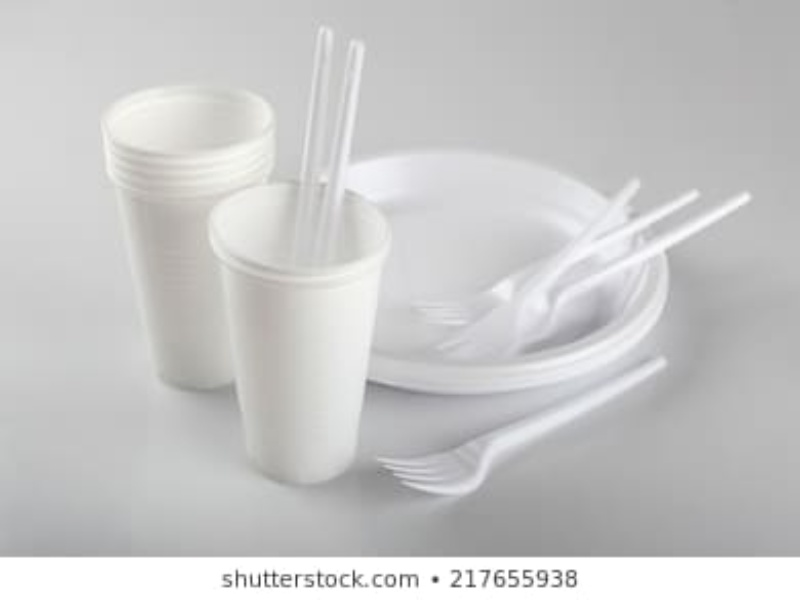plastic-cup: (208, 181, 393, 488), (101, 85, 275, 395)
plastic-plate: (322, 149, 670, 394)
plastic-silverware: (439, 191, 753, 365), (379, 356, 672, 494), (414, 192, 700, 323), (441, 177, 639, 365)
